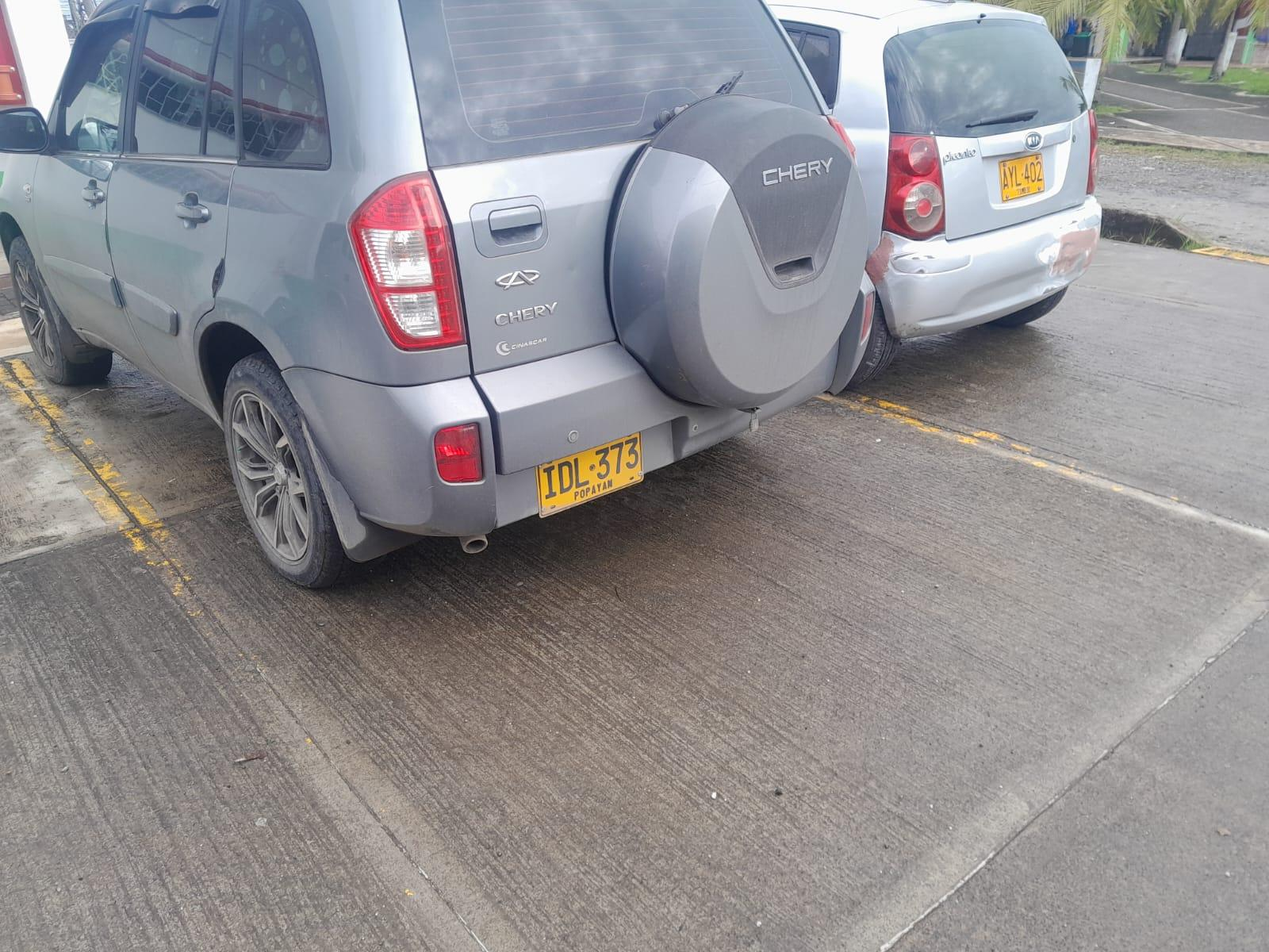placa: (538, 434, 642, 514)
